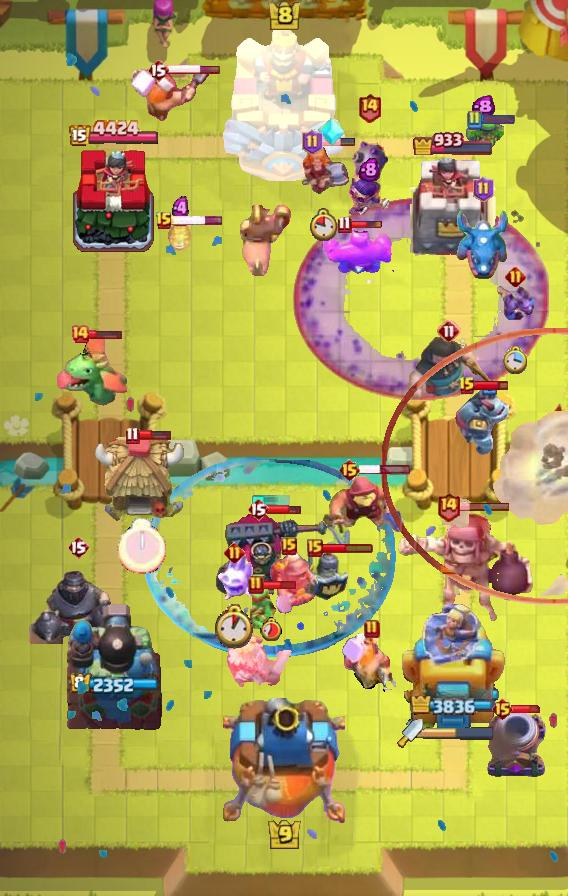bandit: (268, 543, 330, 615)
bar: (398, 595, 508, 731)
electro-giant: (395, 511, 537, 625)
electro-spirit: (471, 95, 495, 119), (359, 157, 380, 182), (171, 196, 188, 221)
electro-wizard: (53, 331, 129, 407)
elixir: (117, 518, 167, 574), (213, 604, 256, 649), (310, 208, 338, 240), (504, 346, 529, 375), (260, 617, 283, 641)
elixir-golem-small: (454, 383, 510, 455)
emote: (167, 64, 221, 76), (321, 542, 375, 554), (172, 215, 225, 226), (359, 465, 411, 476), (459, 500, 511, 511), (266, 503, 302, 516), (474, 380, 509, 393), (89, 328, 124, 340), (263, 579, 298, 591), (480, 115, 516, 126), (138, 429, 171, 441), (320, 137, 356, 147), (349, 220, 383, 230), (511, 704, 543, 714)
fireball: (320, 475, 406, 553)
freeze: (240, 205, 292, 277)
giant-snowball: (246, 585, 288, 629), (462, 116, 504, 156)
goblin-ball: (345, 124, 393, 220)
goblin-cage: (485, 710, 549, 780)
graveyard: (454, 205, 512, 281)
hog-rider: (298, 145, 350, 199)
ice-spirit: (251, 495, 291, 505)
ice-spirit-evolution: (166, 220, 194, 252)
inferno-tower: (213, 514, 329, 600)
king-tower: (220, 21, 348, 181), (223, 698, 345, 826)
king-tower-bar: (423, 726, 495, 740)
mighty-miner: (131, 67, 211, 129), (341, 633, 403, 699)
mirror: (214, 552, 254, 602)
mortar-evolution: (226, 631, 294, 699)
pad_0: (144, 455, 398, 657)
pad_2: (317, 116, 345, 148)
prince: (94, 434, 188, 524)
princess: (304, 544, 350, 602)
queen-tower: (71, 144, 157, 255), (410, 156, 496, 256)
rocket: (293, 197, 549, 401)
royal-delivery: (495, 279, 535, 327)
royal-ghost: (381, 327, 567, 604)
royal-guardian: (29, 560, 127, 644)
royal-hog: (403, 332, 495, 404)
selected: (68, 119, 160, 149), (69, 672, 159, 696), (413, 129, 496, 155), (411, 696, 498, 715)
text: (357, 93, 382, 124), (435, 490, 460, 521), (437, 319, 461, 343), (338, 458, 361, 482), (491, 697, 514, 721), (302, 129, 323, 155), (474, 176, 495, 202), (147, 58, 169, 82), (247, 497, 269, 521), (67, 535, 89, 559), (506, 266, 527, 287), (224, 541, 245, 562), (70, 324, 90, 344), (155, 211, 173, 231), (458, 376, 476, 396), (466, 110, 482, 130), (248, 575, 264, 595), (364, 619, 380, 639), (281, 537, 297, 555), (307, 539, 323, 557), (124, 427, 139, 445), (337, 215, 351, 233)
tornado: (322, 227, 394, 277)
tower-bar: (64, 601, 164, 731)
